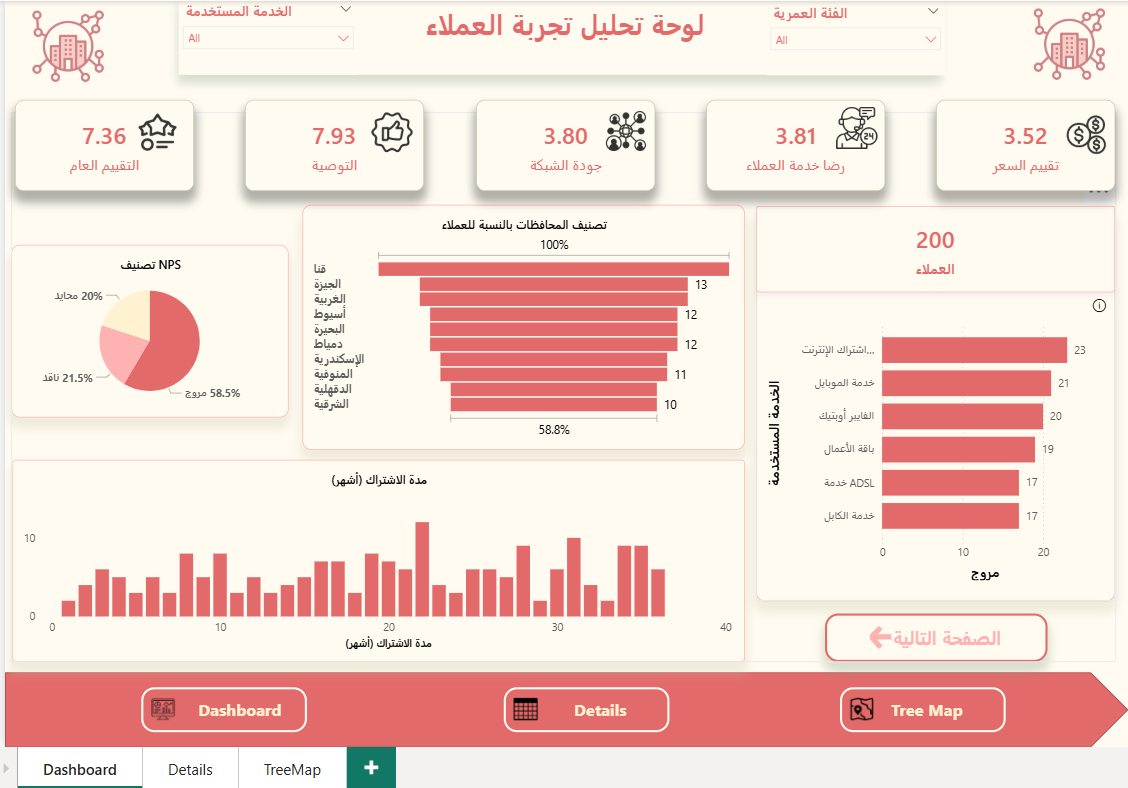

What the dashboard file says about the page in this screenshot:
{"tool":"powerbi","page":{"name":"Dashboard","canvas":[1280,850],"ordinal":0},"visuals":[{"type":"textbox","box":[207.1,0,864.3,84.3],"z":0},{"type":"card","fields":{"Values":["Avg(بيانات الاستبيان.رضا السعر (1-5))"]},"box":[1061.4,112.9,204.3,104.3],"z":0,"group":"g2"},{"type":"pieChart","title":"تصنيف NPS","fields":{"Category":["بيانات الاستبيان.تصنيف NPS"],"Y":["Count(بيانات الاستبيان.رقم الاستجابة)"]},"box":[7.7,277.2,315.7,197.1],"z":0,"group":"g1"},{"type":"slicer","fields":{"Values":["بيانات الاستبيان.الفئة العمرية"]},"box":[867.1,1.4,204.3,82.9],"z":1000},{"type":"card","fields":{"Values":["Avg(بيانات الاستبيان.درجة التوصية NPS (0-10))"]},"box":[273.9,112.9,204.3,104.3],"z":1000,"group":"g2"},{"type":"funnel","title":"تصنيف المحافظات بالنسبة للعملاء","fields":{"Category":["بيانات الاستبيان.المحافظة"],"Y":["Count(بيانات الاستبيان.رقم الاستجابة)"]},"box":[338.9,232.2,504.2,279.2],"z":1000,"group":"g1"},{"type":"slicer","fields":{"Values":["بيانات الاستبيان.الخدمة المستخدمة"]},"box":[198.6,0,204.3,84.3],"z":2000},{"type":"card","fields":{"Values":["Avg(بيانات الاستبيان.رضا جودة الشبكة (1-5))"]},"box":[536.4,112.9,204.3,104.3],"z":2000,"group":"g2"},{"type":"qnaVisual","box":[857.1,232.9,408.6,450],"z":2000,"group":"g1"},{"type":"card","fields":{"Values":["Avg(بيانات الاستبيان.رضا خدمة العملاء (1-5))"]},"box":[798.9,112.9,204.3,104.3],"z":3000,"group":"g2"},{"type":"card","fields":{"Values":["Count(بيانات الاستبيان.رقم الاستجابة)"]},"box":[857.1,232.9,408.6,98.6],"z":3000,"group":"g1"},{"type":"shape","box":[0,764.3,1280,85.7],"z":3000},{"type":"card","fields":{"Values":["Avg(بيانات الاستبيان.التقييم العام (1-10))"]},"box":[11.4,112.9,204.3,104.3],"z":4000,"group":"g2"},{"type":"group","id":"g1","title":"Group 1","box":[7.7,126.7,1258,626.8],"z":4000},{"type":"image","box":[132.7,126.7,102.5,38.6],"z":4000,"group":"g1"},{"type":"group","id":"g2","title":"Group 2","box":[11.4,112.9,1254.3,104.3],"z":5000},{"type":"image","box":[402.9,126.7,74.8,49.5],"z":5000,"group":"g1"},{"type":"image","box":[678,126.7,62.7,38.6],"z":6000,"group":"g1"},{"type":"image","box":[1164.3,7.1,98.6,84.3],"z":7000},{"type":"image","box":[949.4,126.7,43.4,49.5],"z":7000,"group":"g1"},{"type":"image","box":[30,7.1,84.3,88.6],"z":8000},{"type":"image","box":[1200.4,130.3,65.1,43.4],"z":8000,"group":"g1"},{"type":"clusteredColumnChart","title":"مدة الاشتراك (أشهر)","fields":{"Category":["بيانات الاستبيان.مدة الاشتراك (أشهر)"],"Y":["Count(بيانات الاستبيان.رقم الاستجابة)"]},"box":[8.6,522.9,834.3,230],"z":9000,"group":"g1"},{"type":"actionButton","box":[155.7,781.4,188.6,51.4],"z":9000},{"type":"actionButton","box":[934.3,697.9,253.5,55.5],"z":10000,"group":"g1"},{"type":"actionButton","box":[568.6,781.4,188.6,51.4],"z":10000},{"type":"actionButton","box":[951.4,781.4,188.6,51.4],"z":11000},{"type":"image","box":[1183.6,128.9,96.9,45.6],"z":12000},{"type":"image","box":[928.6,118.2,84,52.7],"z":13000},{"type":"image","box":[675.1,124.6,65.5,45.6],"z":14000},{"type":"image","box":[141,128.2,65.5,42.7],"z":15000},{"type":"image","box":[413,123.9,55.5,51.3],"z":16000}]}

Visuals, with their boxes on the page's 1280x850 design canvas (x1, y1, x2, y2). These are canvas units, not pixel positions in the 1128x788 screenshot, which may show the page scaled, cropped or inside an application window:
textbox: bbox=(207, 0, 1071, 84)
card - Avg(بيانات الاستبيان.رضا السعر (1-5)): bbox=(1061, 113, 1266, 217)
"تصنيف NPS" pieChart: bbox=(8, 277, 323, 474)
slicer - بيانات الاستبيان.الفئة العمرية: bbox=(867, 1, 1071, 84)
card - Avg(بيانات الاستبيان.درجة التوصية NPS (0-10)): bbox=(274, 113, 478, 217)
"تصنيف المحافظات بالنسبة للعملاء" funnel: bbox=(339, 232, 843, 511)
slicer - بيانات الاستبيان.الخدمة المستخدمة: bbox=(199, 0, 403, 84)
card - Avg(بيانات الاستبيان.رضا جودة الشبكة (1-5)): bbox=(536, 113, 741, 217)
qnaVisual: bbox=(857, 233, 1266, 683)
card - Avg(بيانات الاستبيان.رضا خدمة العملاء (1-5)): bbox=(799, 113, 1003, 217)
card - Count(بيانات الاستبيان.رقم الاستجابة): bbox=(857, 233, 1266, 332)
shape: bbox=(0, 764, 1280, 850)
card - Avg(بيانات الاستبيان.التقييم العام (1-10)): bbox=(11, 113, 216, 217)
"Group 1" group: bbox=(8, 127, 1266, 754)
image: bbox=(133, 127, 235, 165)
"Group 2" group: bbox=(11, 113, 1266, 217)
image: bbox=(403, 127, 478, 176)
image: bbox=(678, 127, 741, 165)
image: bbox=(1164, 7, 1263, 91)
image: bbox=(949, 127, 993, 176)
image: bbox=(30, 7, 114, 96)
image: bbox=(1200, 130, 1266, 174)
"مدة الاشتراك (أشهر)" clusteredColumnChart: bbox=(9, 523, 843, 753)
actionButton: bbox=(156, 781, 344, 833)
actionButton: bbox=(934, 698, 1188, 753)
actionButton: bbox=(569, 781, 757, 833)
actionButton: bbox=(951, 781, 1140, 833)
image: bbox=(1184, 129, 1280, 174)
image: bbox=(929, 118, 1013, 171)
image: bbox=(675, 125, 741, 170)
image: bbox=(141, 128, 206, 171)
image: bbox=(413, 124, 468, 175)
